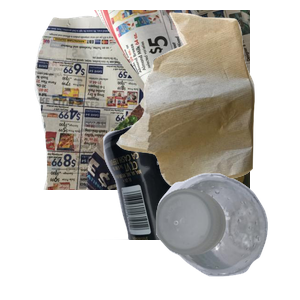glass: (37, 120, 231, 300)
paper: (32, 10, 272, 190)
plastic: (153, 170, 300, 300)
trash: (114, 10, 300, 189)
